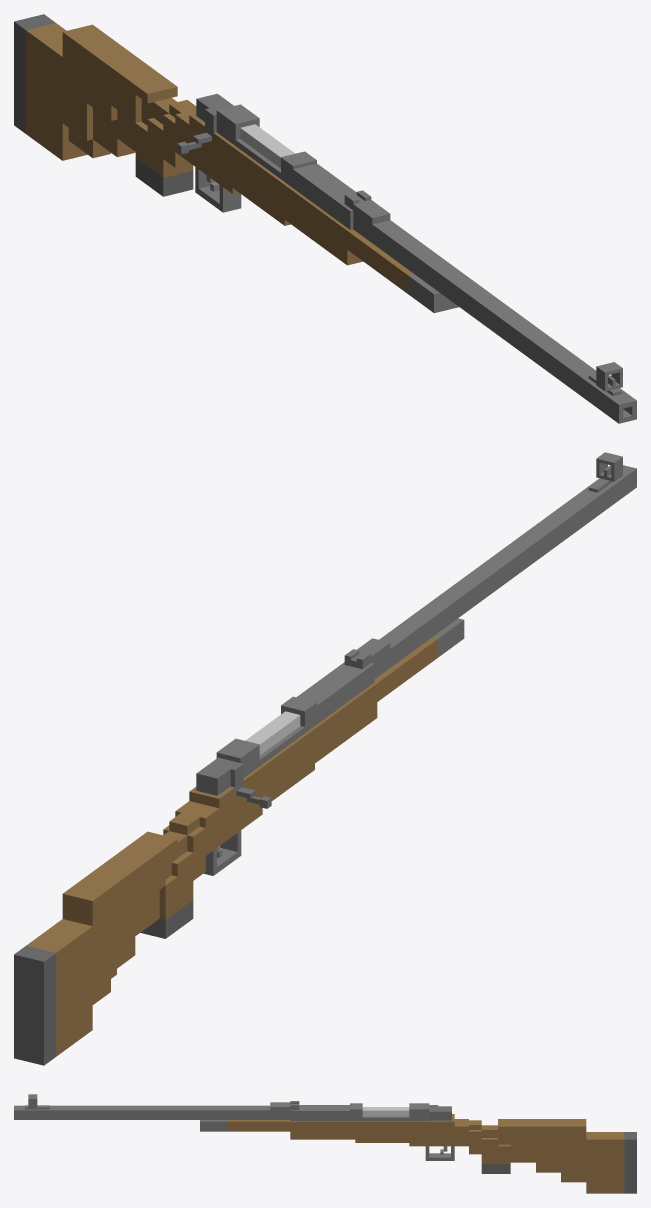
Rendered from rifle_boltAction.fbx.
3 renders of one model, top to bottom at view 1: azimuth 30°, elevation 25°; view 2: azimuth 150°, elevation 25°; view 3: azimuth 270°, elevation 25°, orthographic. The views are drawn at different scales.
Parts seen in each view (by area): view 1: rifle_boltAction_base, rifle_boltAction_handle, rifle_boltAction_bolt; view 2: rifle_boltAction_base, rifle_boltAction_handle, rifle_boltAction_bolt; view 3: rifle_boltAction_base, rifle_boltAction_bolt, rifle_boltAction_handle.
Boxes of the visible parts, left/top/right/bottom form: rifle_boltAction_base: left=14, top=14, right=636, bottom=423; rifle_boltAction_handle: left=177, top=93, right=233, bottom=154; rifle_boltAction_bolt: left=240, top=124, right=294, bottom=168; rifle_boltAction_base: left=14, top=452, right=636, bottom=1065; rifle_boltAction_handle: left=196, top=757, right=271, bottom=808; rifle_boltAction_bolt: left=245, top=711, right=300, bottom=755; rifle_boltAction_base: left=14, top=1094, right=636, bottom=1193; rifle_boltAction_bolt: left=362, top=1107, right=409, bottom=1116; rifle_boltAction_handle: left=429, top=1105, right=451, bottom=1120.
Size of the model in its own units: 12 by 34.2 by 207.
